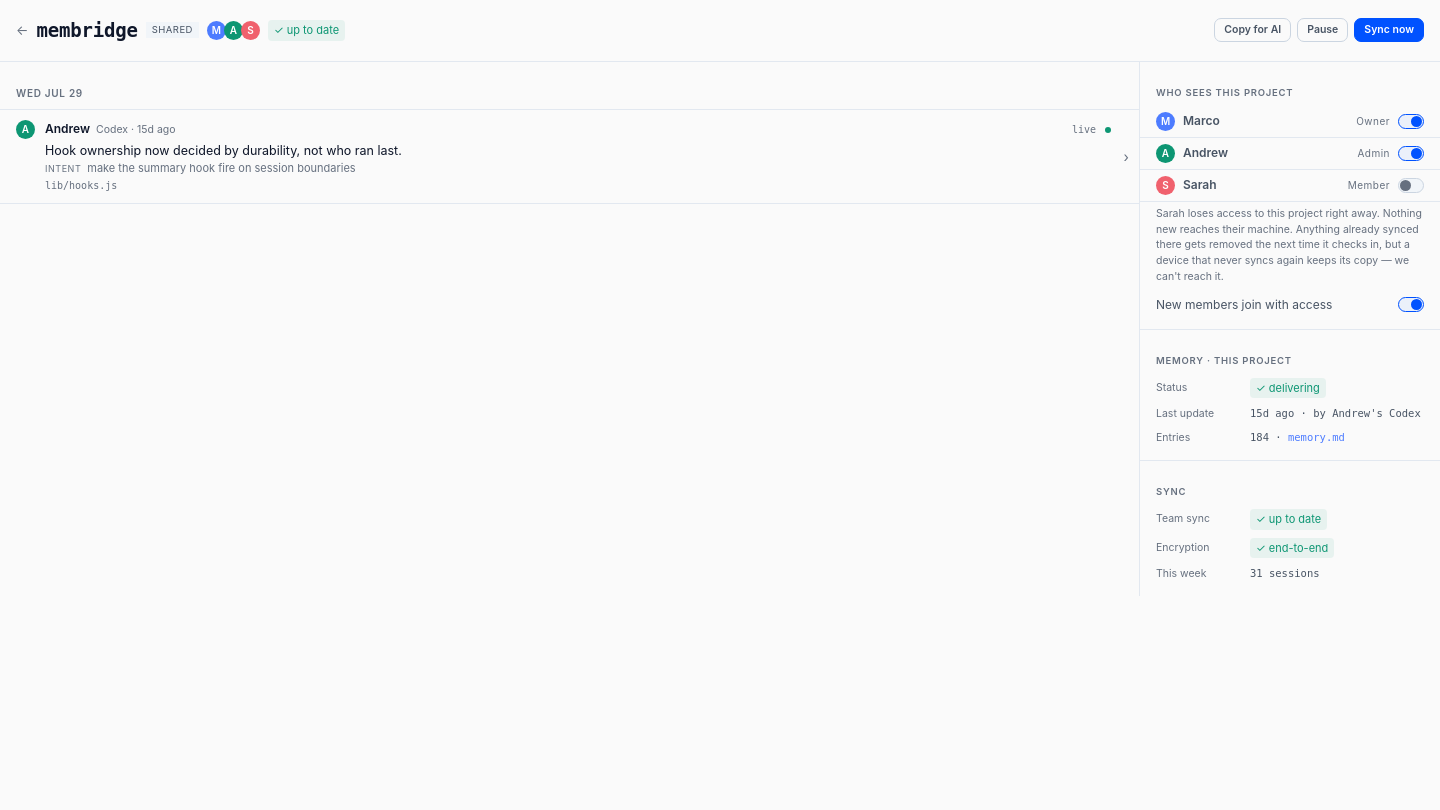
ProjectPage › surfaces a failed access toggle instead of silently snapping back
What coordinates should you click on to do the following:
click the switch named "Sarah"
I would click on:
 (1411, 185)
Its box is 1398,178 -> 1424,193.
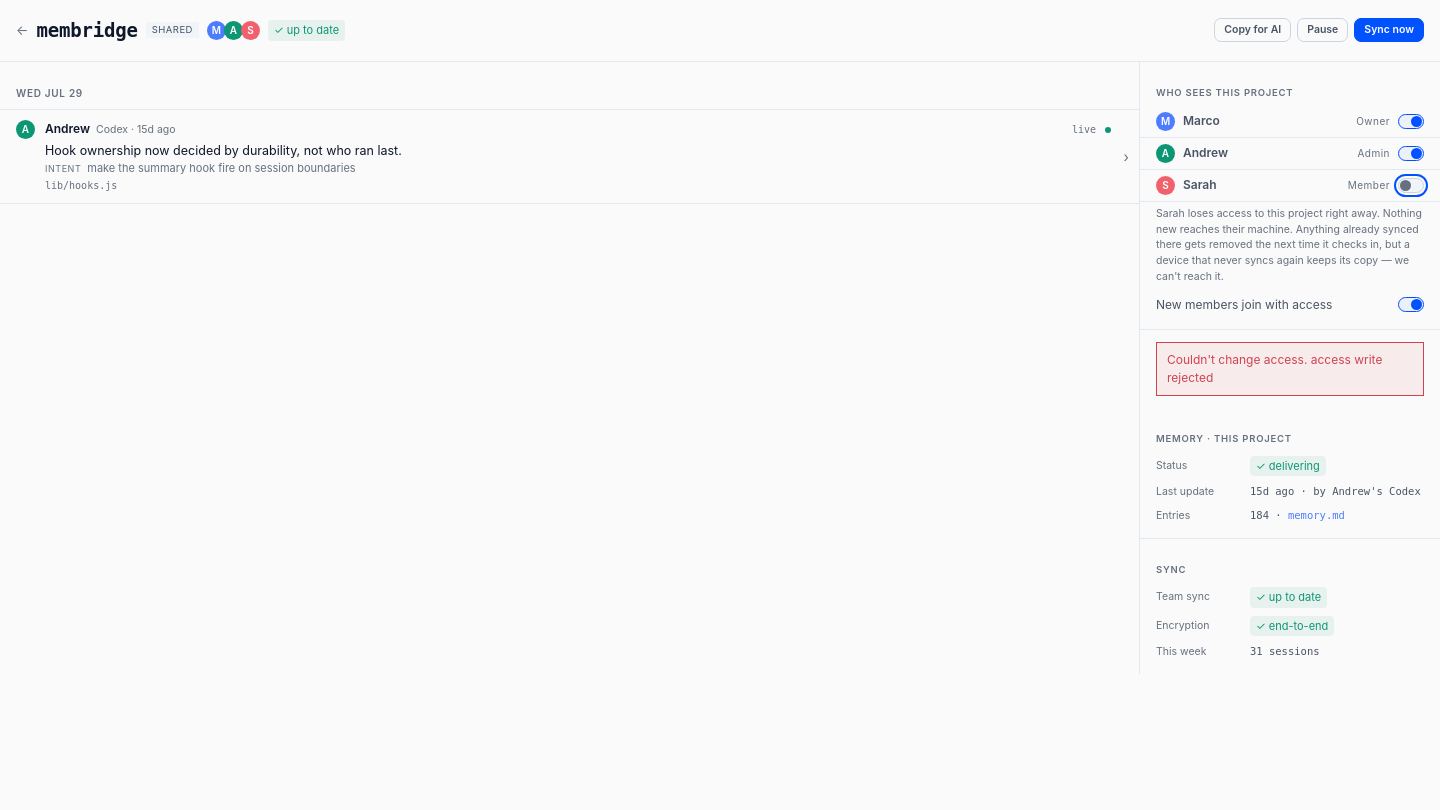
Expected: the text "Couldn't change access. access write rejected" is shown, 1156,342 -> 1424,396
